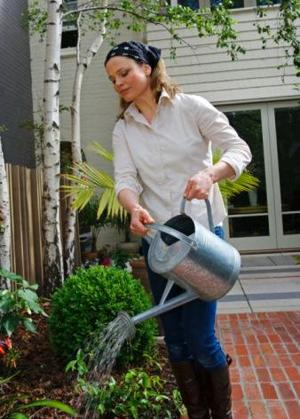person: (105, 40, 253, 419)
